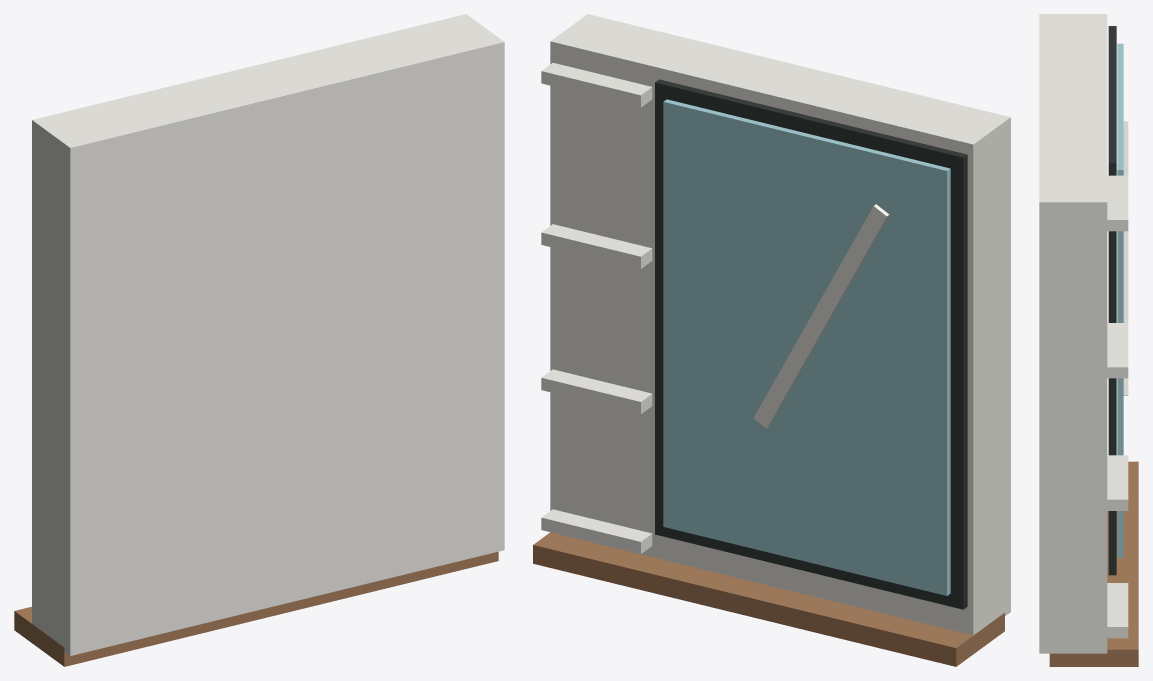
File: bath-mirror.glb
3 renders of one model, left to right at view 1: azimuth 30°, elevation 25°; view 2: azimuth 150°, elevation 25°; view 3: azimuth 270°, elevation 25°, orthographic. The views are drawn at different scales.
Parts seen in each view (by area): view 1: bath-mirror; view 2: bath-mirror; view 3: bath-mirror.
Boxes of the visible parts, box(x1,y1,x2,y2) form: bath-mirror: box(14, 14, 504, 666); bath-mirror: box(533, 14, 1010, 666); bath-mirror: box(1039, 14, 1138, 666).
Size of the model in its own units: 0.85 by 0.9786 by 0.19.
